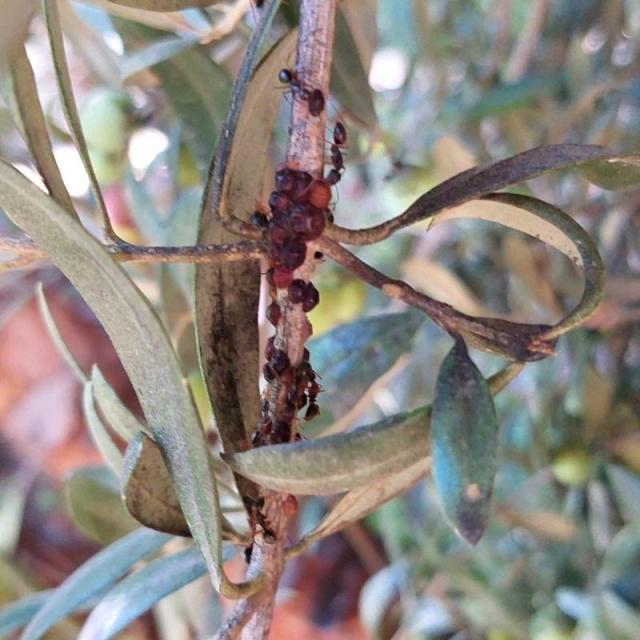BlackScale: (250, 144, 344, 446), (280, 493, 297, 525)
